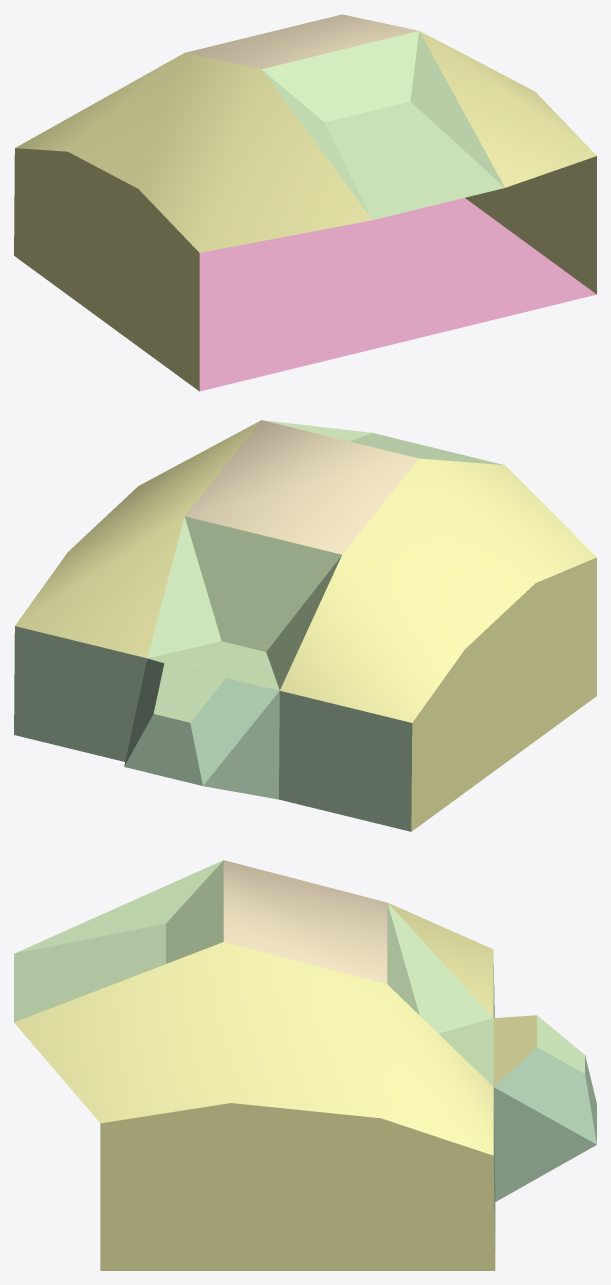
3 renders of one model, top to bottom at view 1: azimuth 30°, elevation 25°; view 2: azimuth 150°, elevation 25°; view 3: azimuth 270°, elevation 25°, orthographic. The views are drawn at different scales.
Parts seen in each view (by area): view 1: Object35; view 2: Object35; view 3: Object35.
Boxes of the visible parts, x1,y1,x2,y2 form: Object35: (14, 14, 596, 391); Object35: (14, 420, 596, 831); Object35: (14, 860, 596, 1270).
Bounding box in the file's own units: 30000 × 18083 × 35824.
